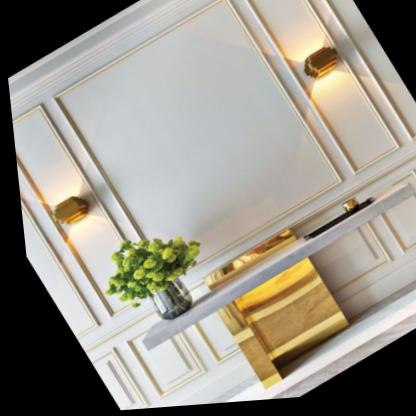Futec frame: (57, 144, 416, 413), (37, 0, 352, 298), (8, 92, 164, 351), (229, 0, 416, 196)
